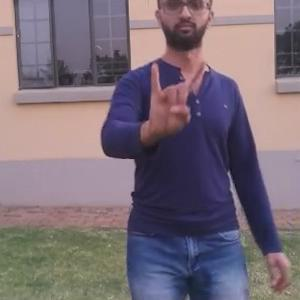takeoff-hand: (140, 47, 213, 146)
